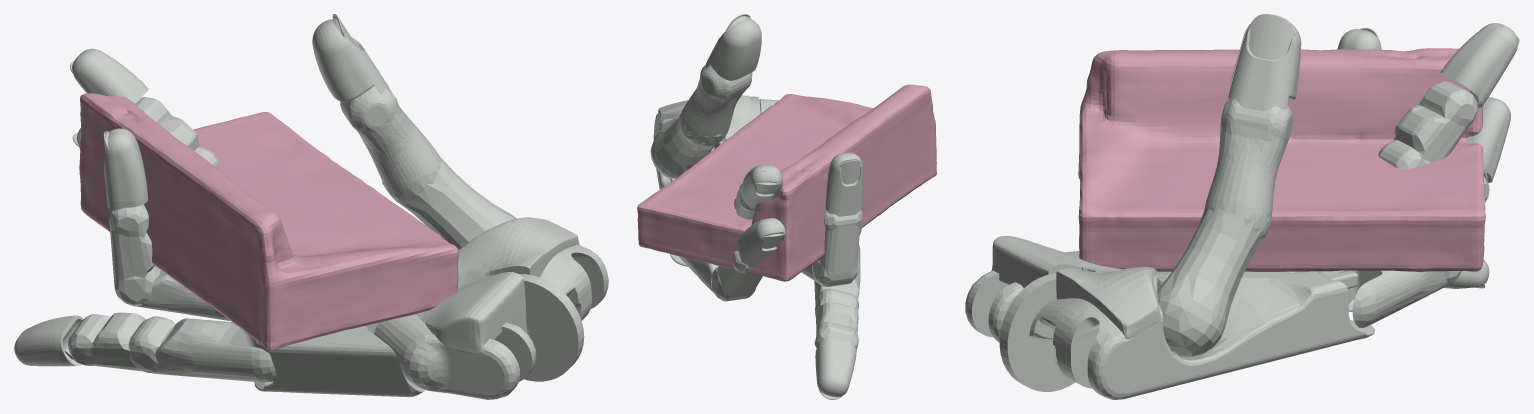
3 renders of one model, left to right at view 1: azimuth 30°, elevation 25°; view 2: azimuth 150°, elevation 25°; view 3: azimuth 270°, elevation 25°, orthographic. The views are drawn at different scales.
Parts seen in each view (by area): view 1: hand_isaac_q, world; view 2: world, hand_isaac_q; view 3: hand_isaac_q, world.
Part boxes in pixels (x1,y1,x2,y2): hand_isaac_q: [14, 14, 608, 399]; world: [79, 93, 458, 351]; world: [637, 84, 936, 281]; hand_isaac_q: [650, 14, 862, 399]; hand_isaac_q: [965, 14, 1519, 399]; world: [1078, 48, 1485, 271].
Bounding box in the file's own units: 0.1658 × 0.1379 × 0.1801.
